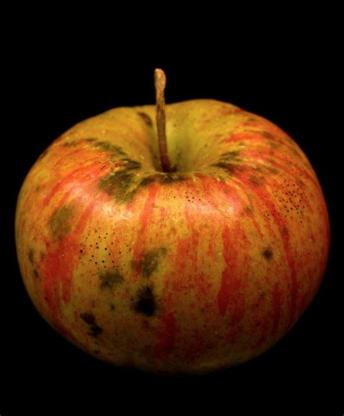defect: (24, 209, 186, 364), (214, 113, 296, 272), (59, 130, 155, 204)
